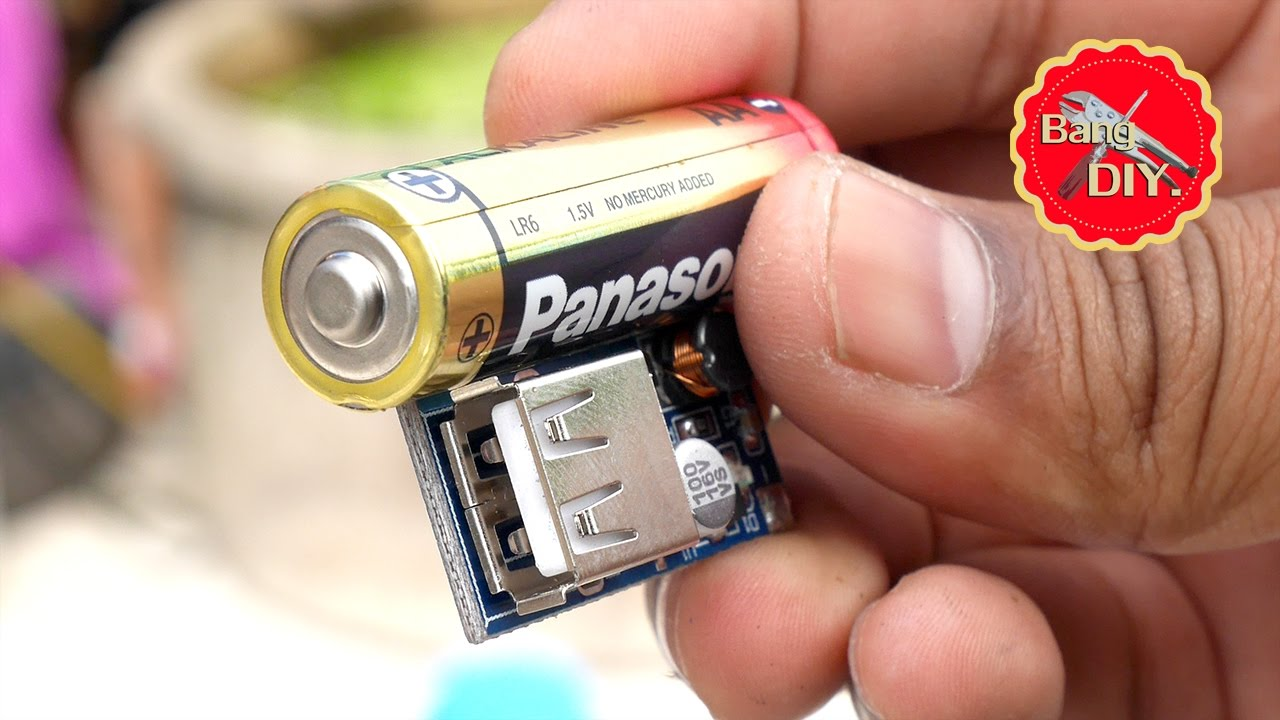Battery: (257, 87, 846, 416)
